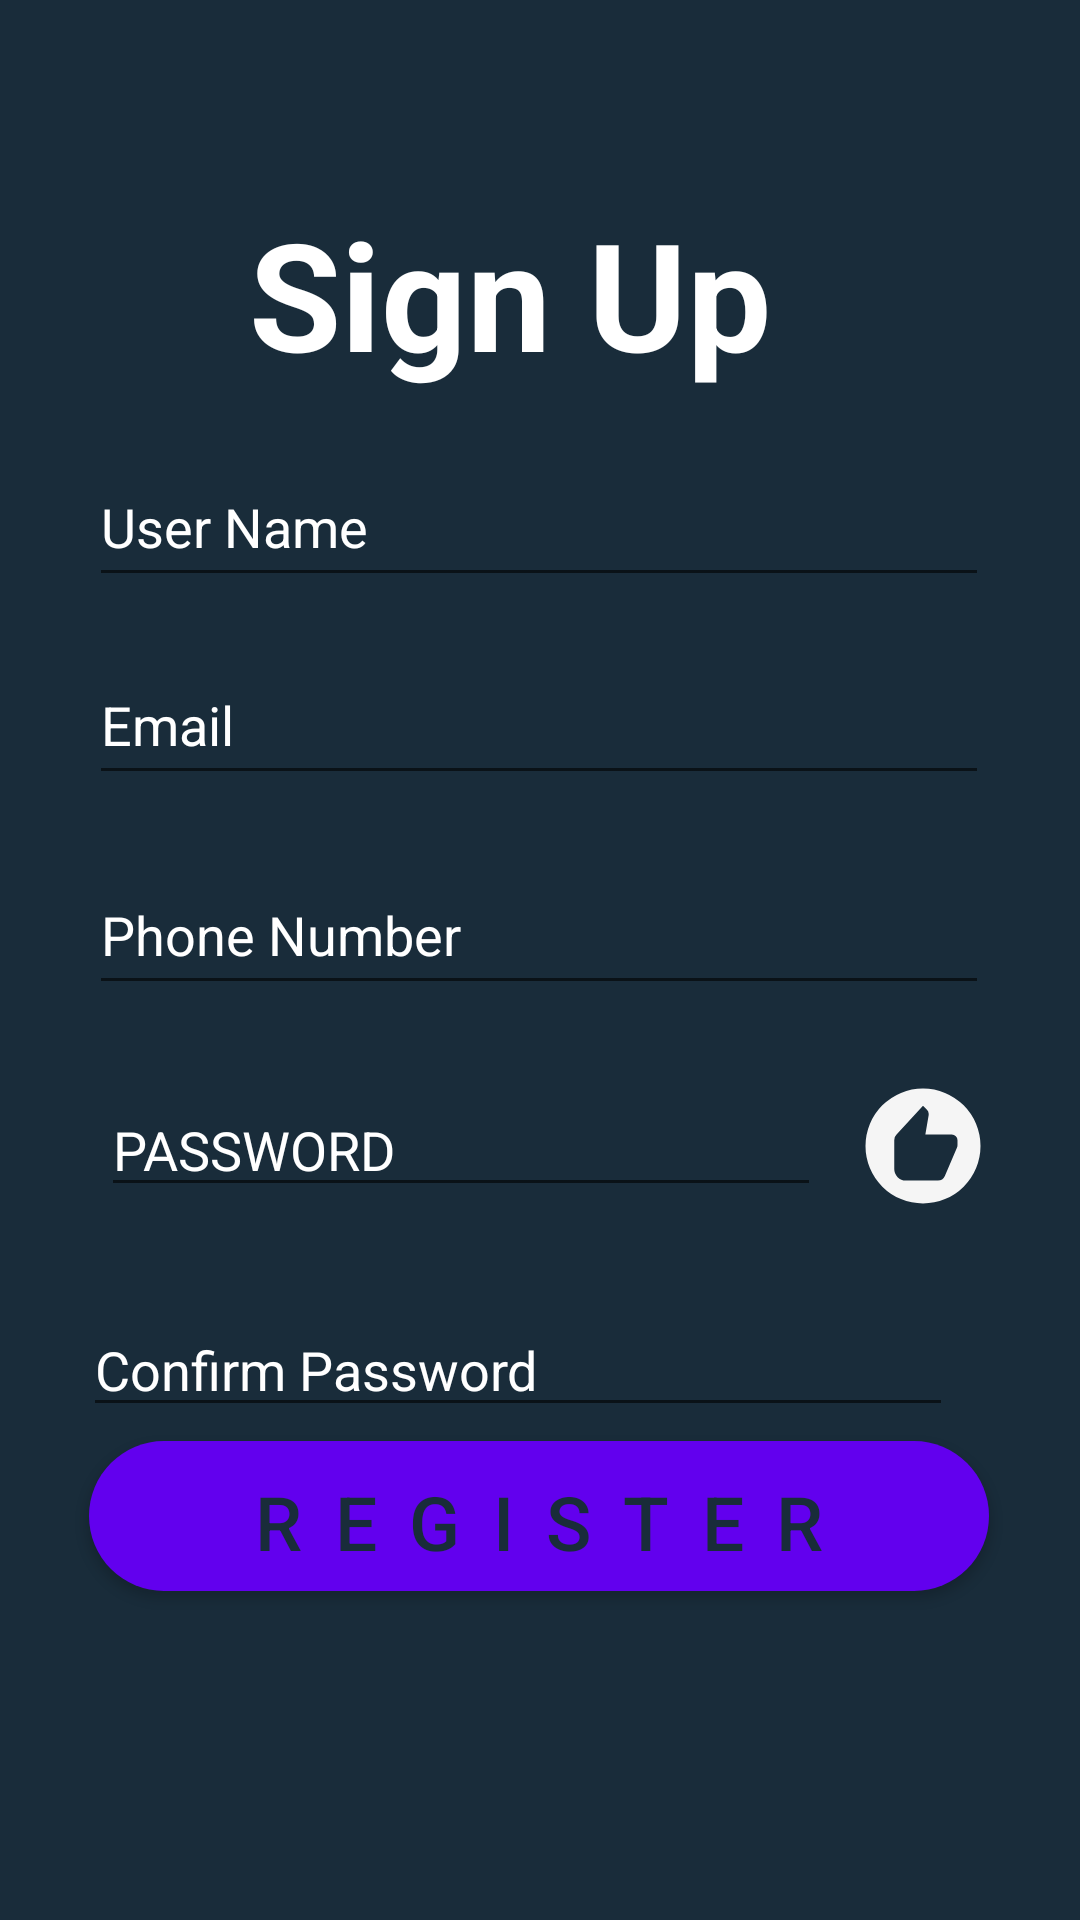

Point at icon controls on the screen. Image size 1080w x 1920h, points as [x,y].
recommend: [923,1146]
